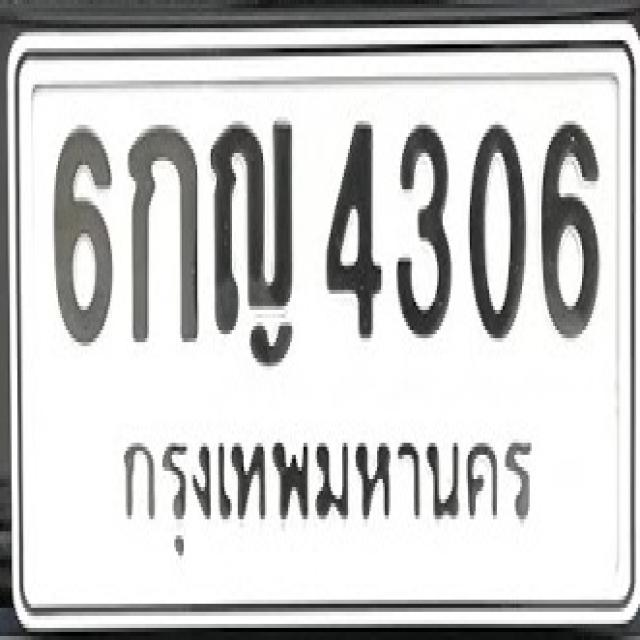license_plate: (7, 22, 640, 640)
